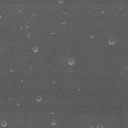corrosion: (31, 44, 40, 54), (107, 36, 116, 46), (50, 118, 58, 128), (68, 58, 76, 66), (35, 95, 42, 103), (1, 119, 8, 127), (89, 32, 96, 39), (26, 32, 32, 38), (100, 9, 105, 15)
